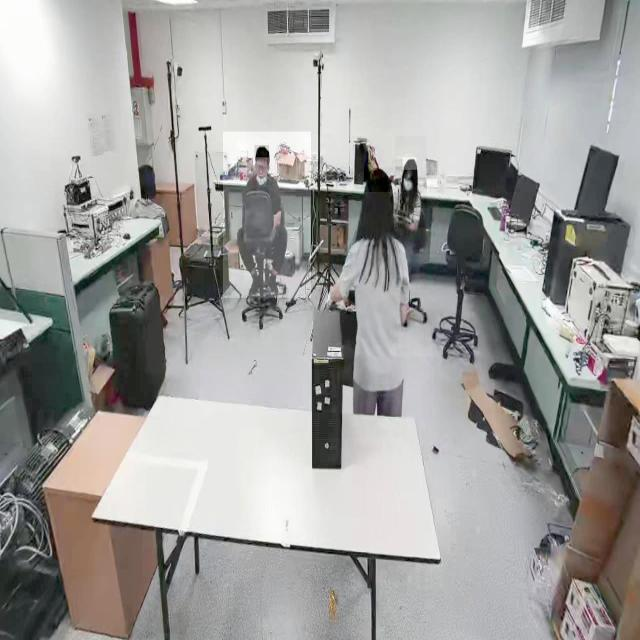face_mask: (401, 170, 413, 193)
face_nomask: (255, 162, 268, 184)
head_nohelmet: (364, 167, 394, 193), (254, 145, 270, 158), (403, 157, 417, 171)
person: (319, 160, 407, 439), (223, 132, 311, 298), (395, 136, 427, 228)
shoes: (244, 271, 260, 297), (266, 272, 281, 296)
